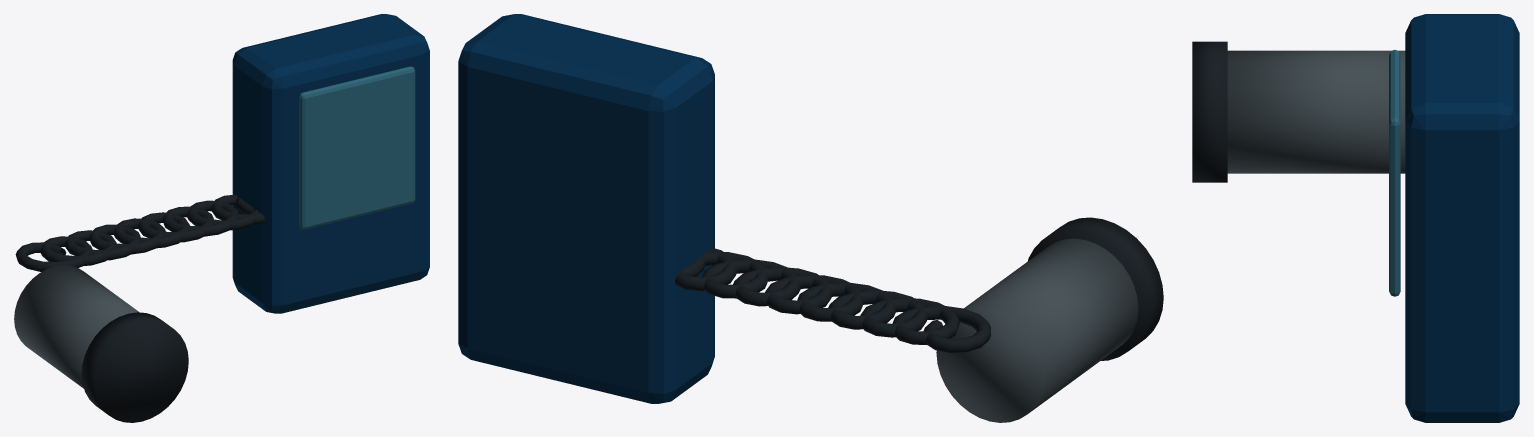
File: PROP_Probe.glb
3 renders of one model, left to right at view 1: azimuth 30°, elevation 25°; view 2: azimuth 150°, elevation 25°; view 3: azimuth 270°, elevation 25°, orthographic. The views are drawn at different scales.
Parts seen in each view (by area): view 1: PROP_Probe; view 2: PROP_Probe; view 3: PROP_Probe.
Part boxes in pixels (x1,y1,x2,y2): PROP_Probe: (14,14,429,422); PROP_Probe: (458,14,1163,422); PROP_Probe: (1192,14,1519,422).
Size of the model in its own units: 0.2165 by 0.12 by 0.1115.
1 material, 1 textured.
